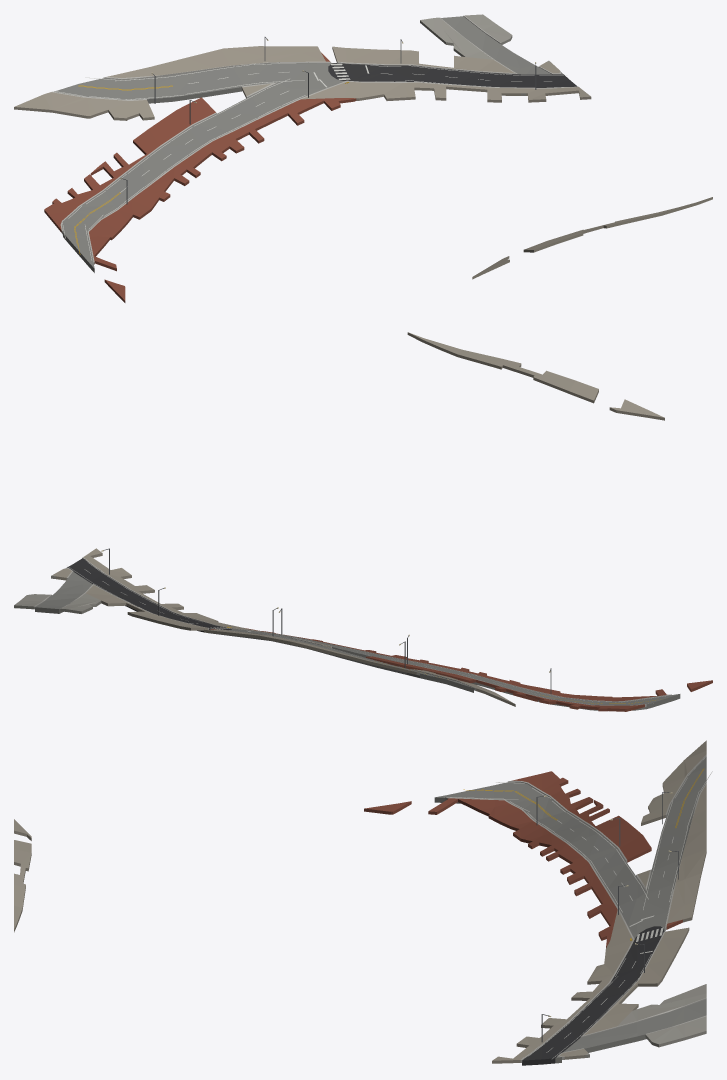
3 views of the same model, one above another, from view 1: azimuth 30°, elevation 25°; view 2: azimuth 150°, elevation 25°; view 3: azimuth 270°, elevation 25° (orthographic). The views are drawn at different scales.
Bounding box in the file's own units: 148 × 29.82 × 147.
